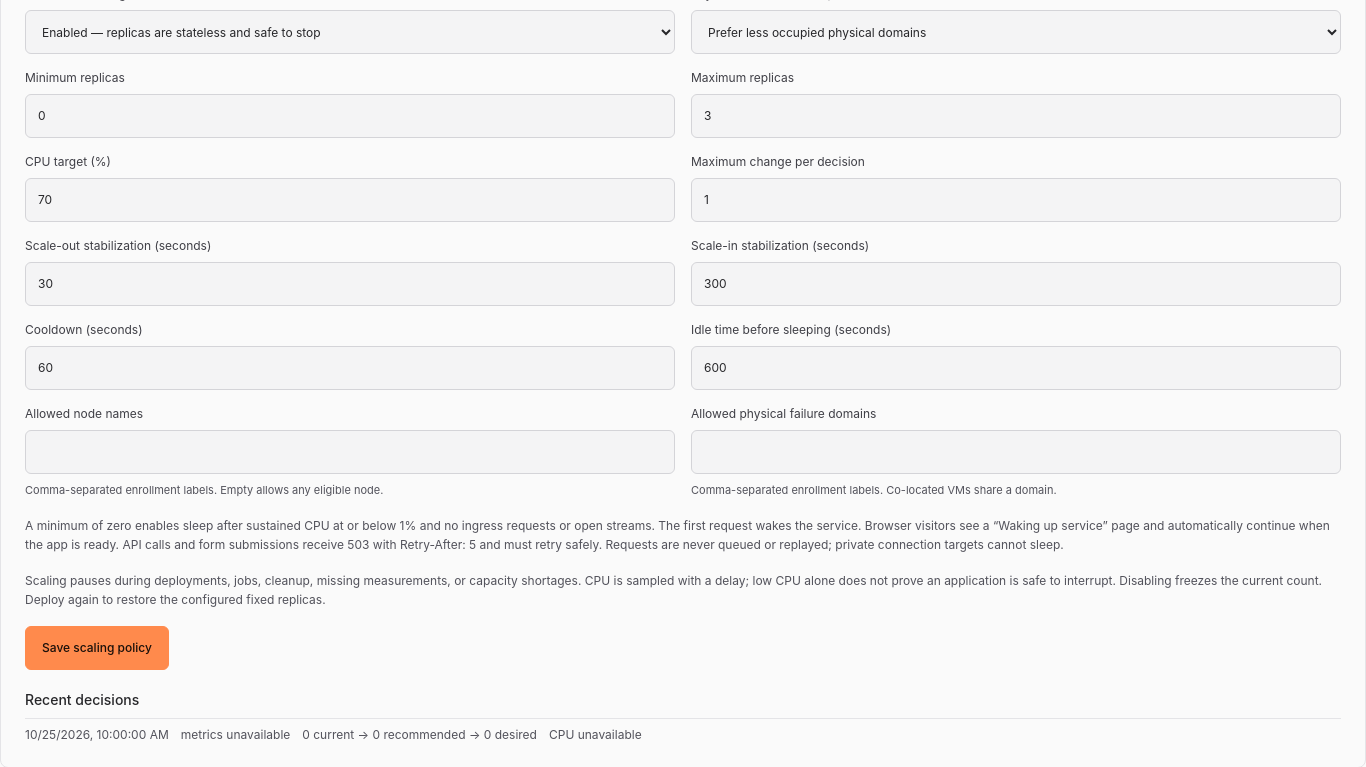
Test: keeps a rejected policy editable and displays the server reason
(page scrolled)
Click the button "Save scaling policy" at (97, 648), box [25,626,169,670]
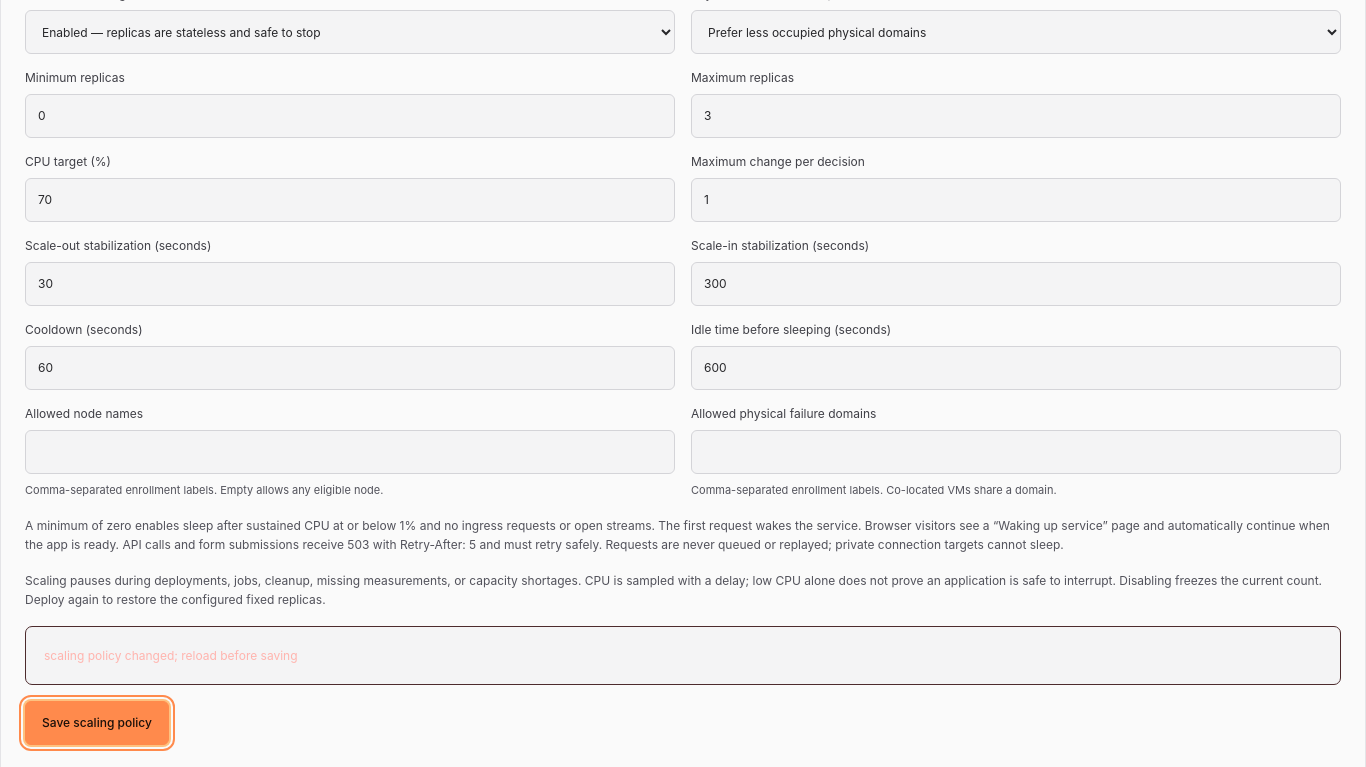
expect the button "Save scaling policy" is enabled: met, box [25,702,169,746]
expect the message shows "scaling policy changed": met, box [44,648,298,663]
